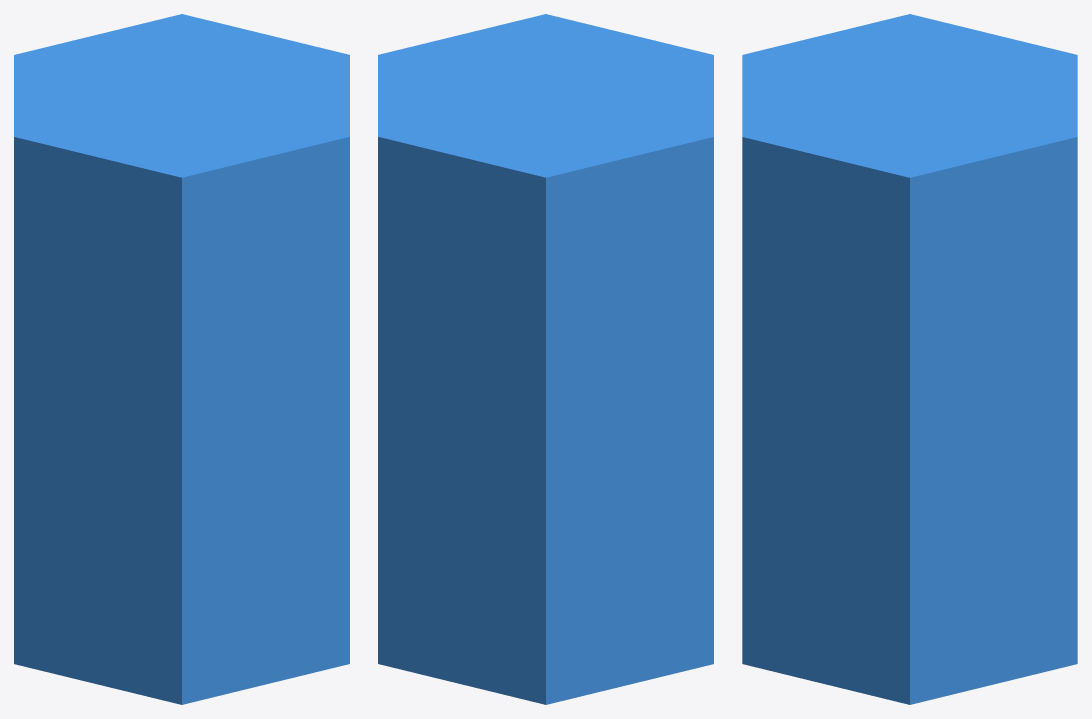
Rendered from research_lab_beacon.obj.
3 renders of one model, left to right at view 1: azimuth 30°, elevation 25°; view 2: azimuth 150°, elevation 25°; view 3: azimuth 270°, elevation 25°, orthographic.
Parts seen in each view (by area): view 1: Body; view 2: Body; view 3: Body.
Part boxes in pixels (<box>): Body: <box>14,14,349,704</box>; Body: <box>378,14,713,704</box>; Body: <box>742,14,1077,704</box>.
Size of the model in its own units: 0.08 by 0.12 by 0.0692.
